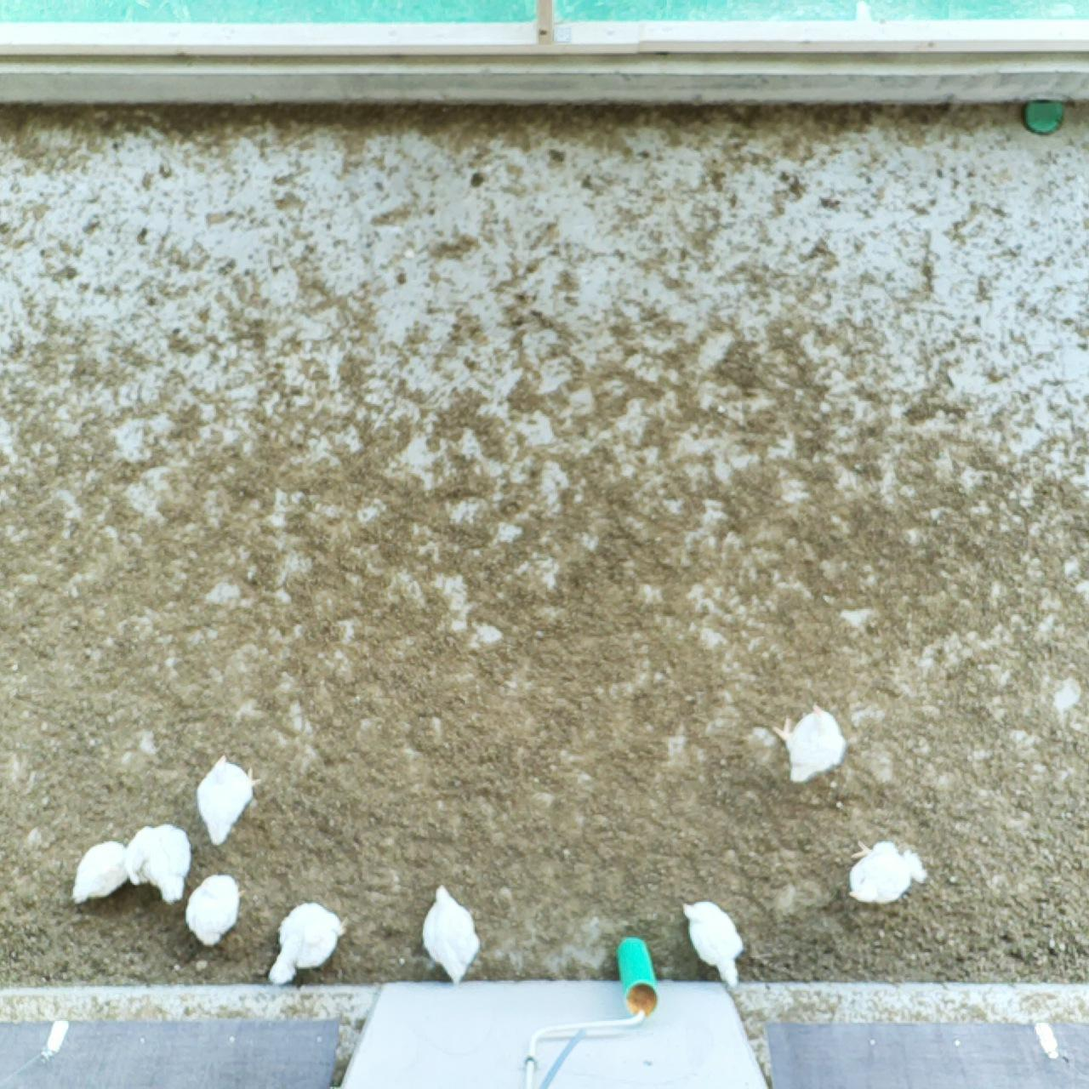chicken: (267, 898, 351, 988), (768, 699, 851, 785), (194, 751, 264, 850), (420, 880, 483, 985), (845, 833, 932, 907), (678, 897, 746, 990), (182, 871, 248, 948), (68, 839, 130, 909)
